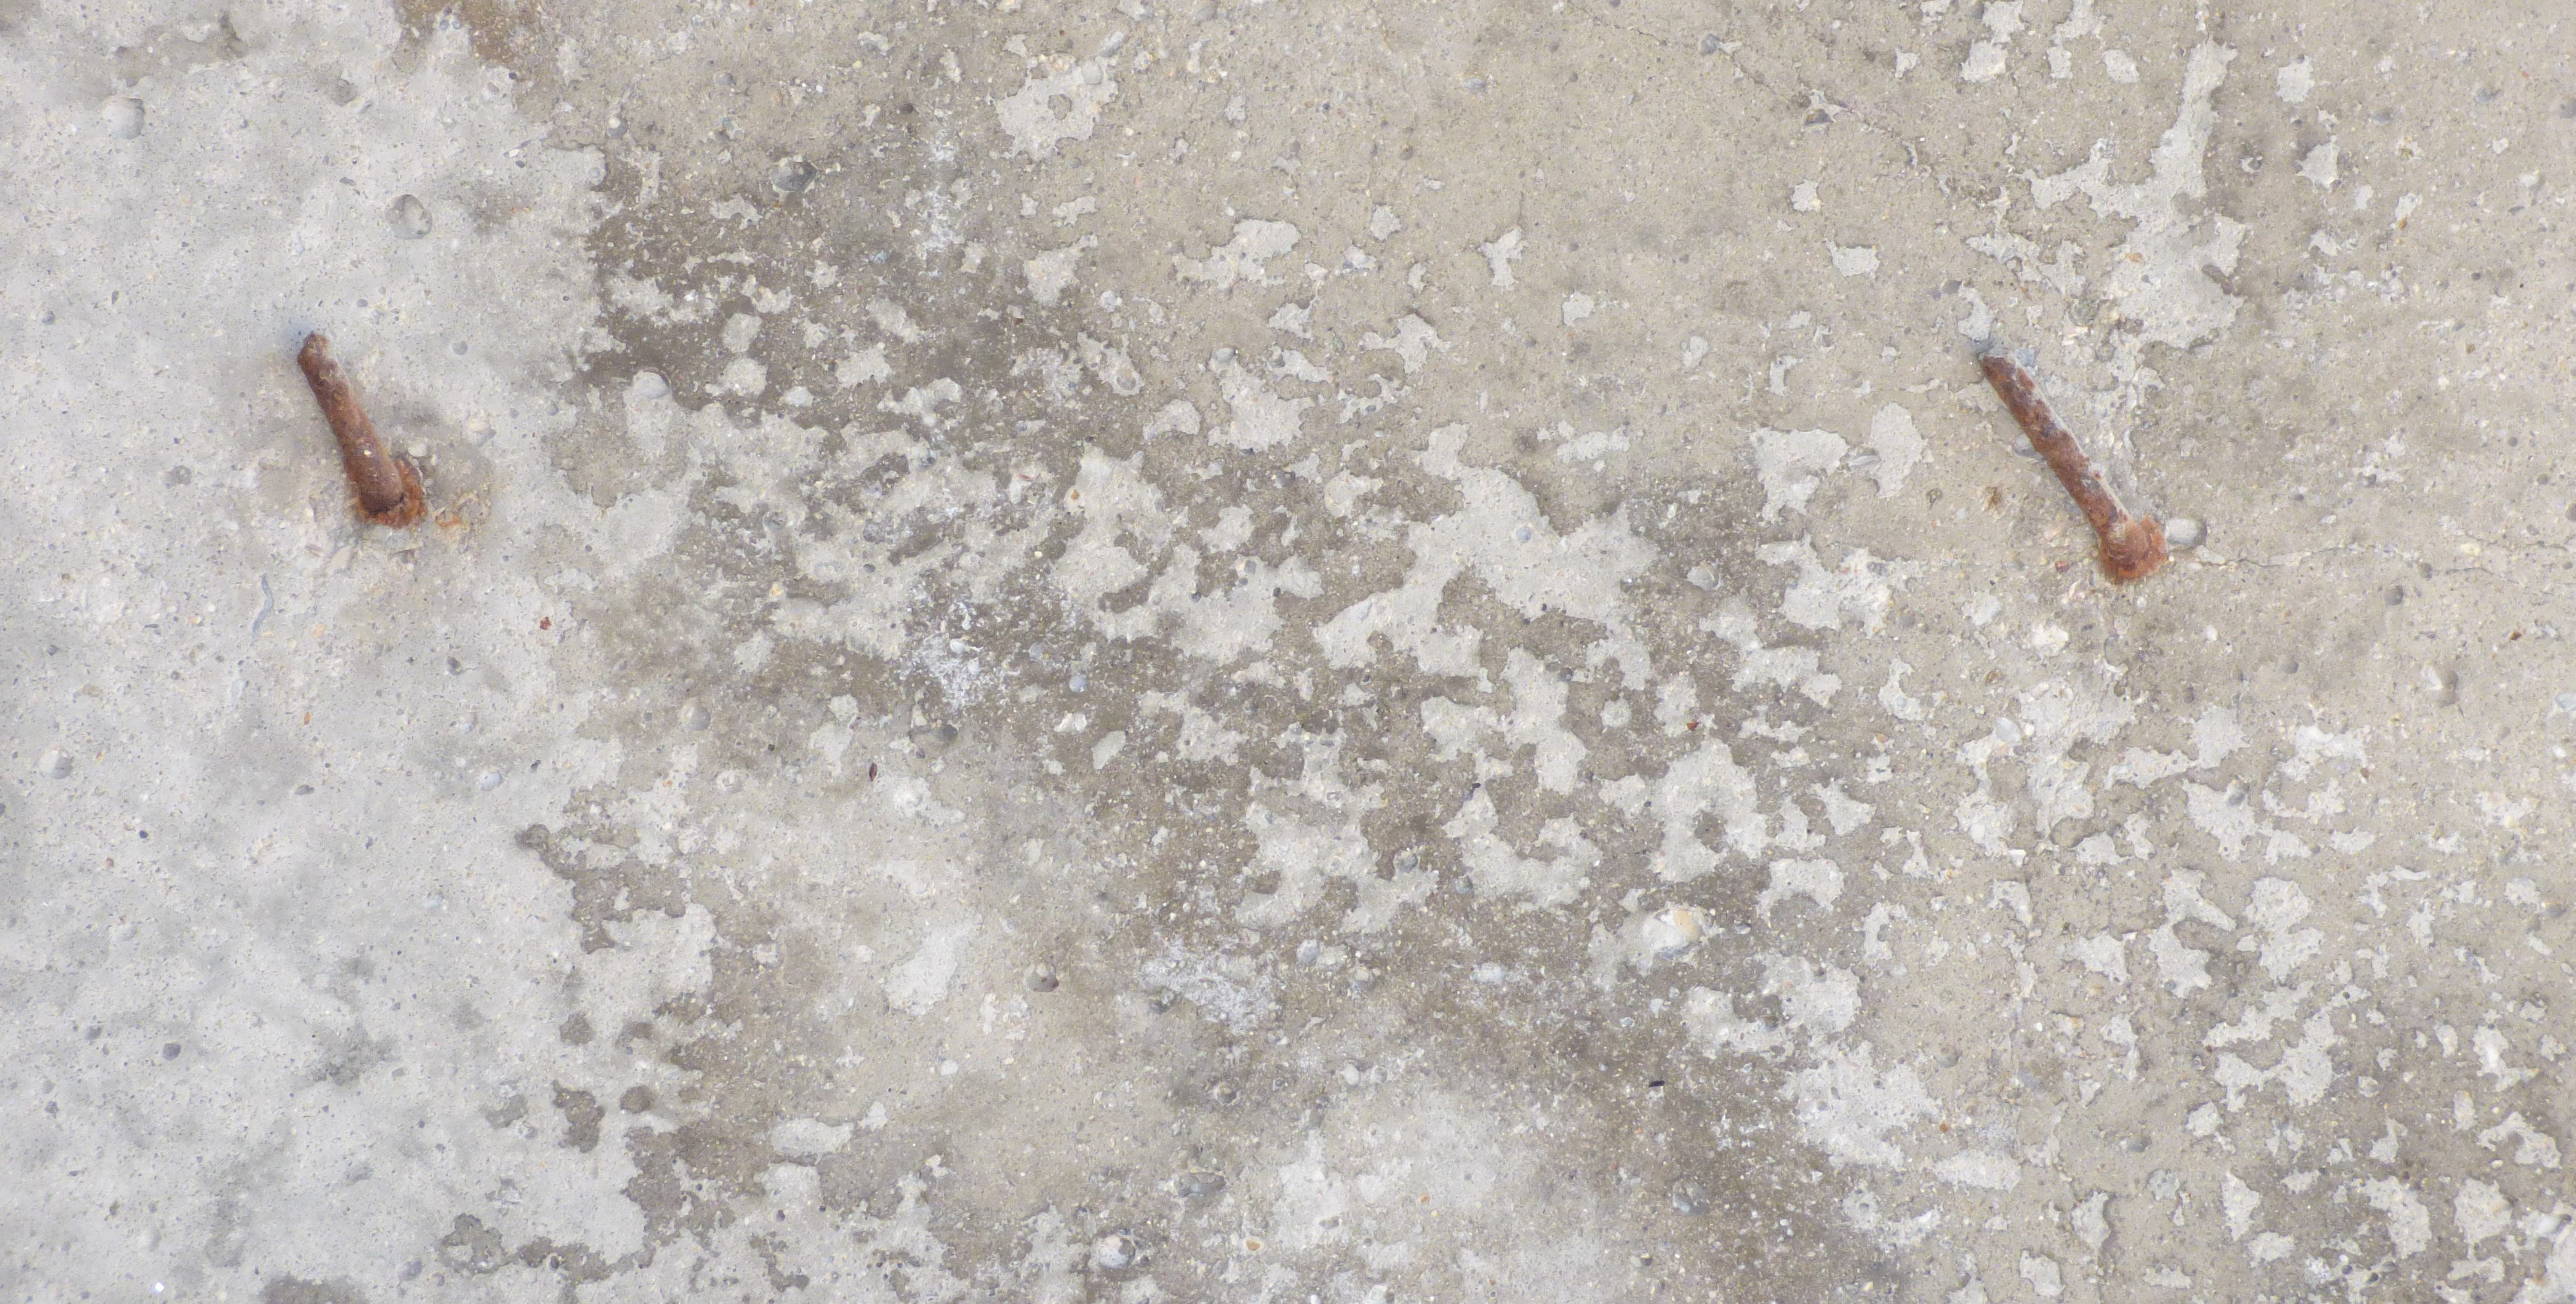Corrosion: (359, 456, 426, 527), (2099, 517, 2169, 579)
Exposed reinforcement: (1979, 354, 2147, 567), (298, 329, 401, 512)
